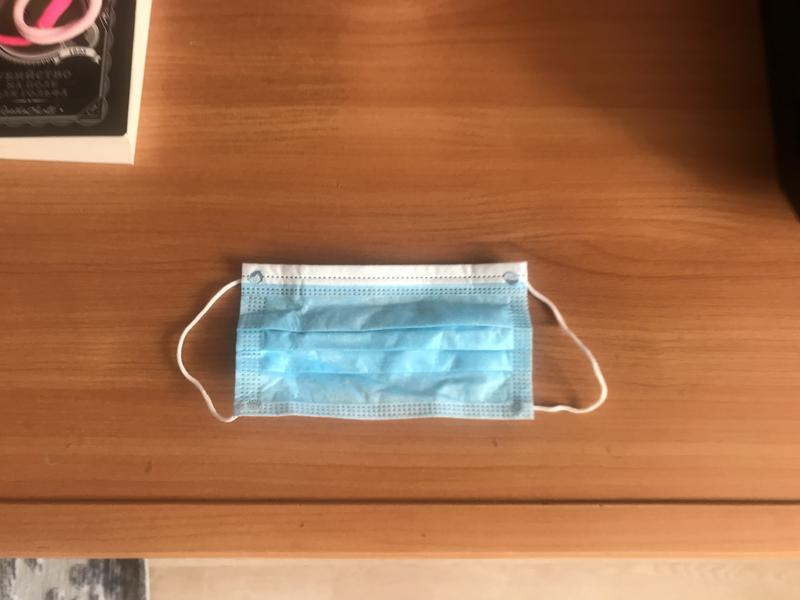medical_mask: (175, 261, 611, 429)
